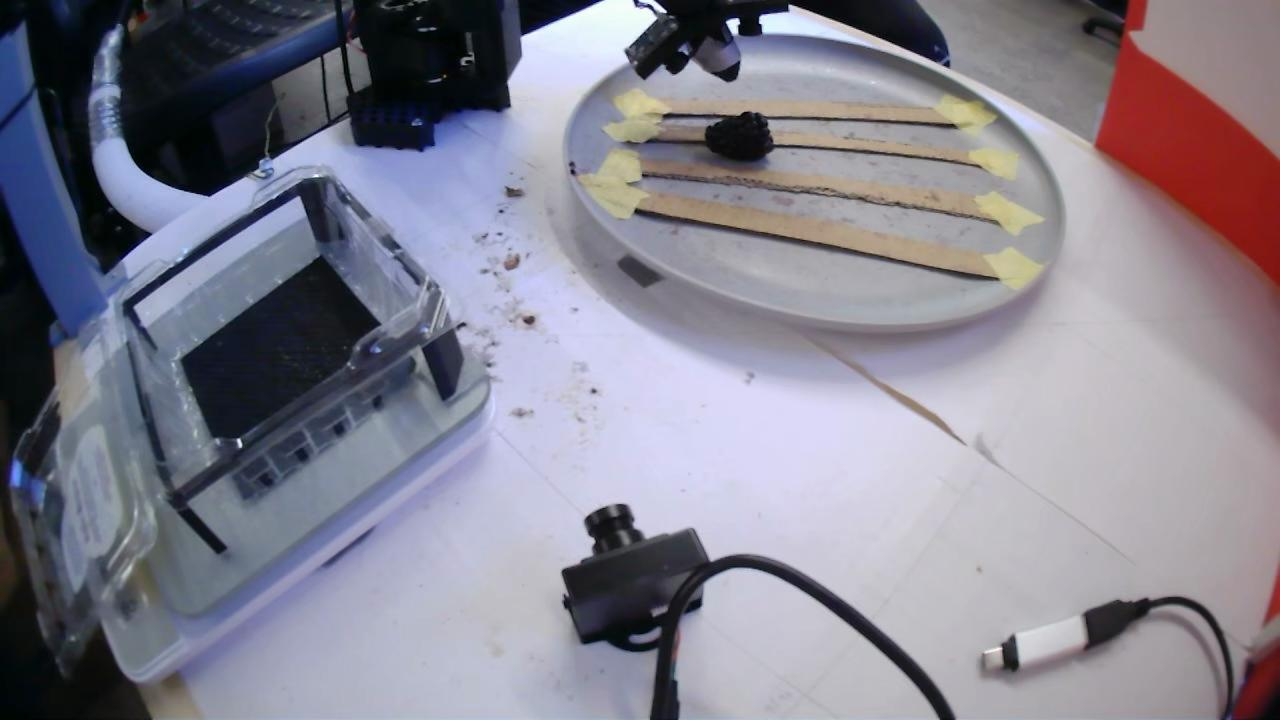berry: (706, 112, 773, 160)
